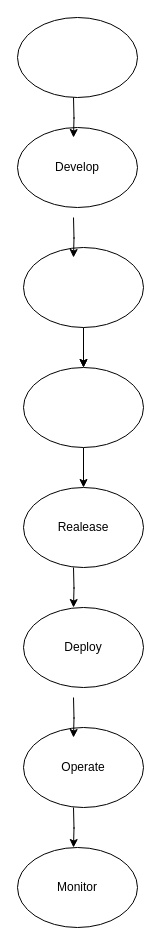
Some shapes in this 161 by 945 pixel diagram are drawn without their labels. The shapes that lost their labels are listed below. From the top down, each one's box as (x1, y1, x2, y2) in pixels, then its label:
(16, 16, 138, 98): Plan
(22, 246, 144, 328): Build
(22, 366, 144, 448): Test
